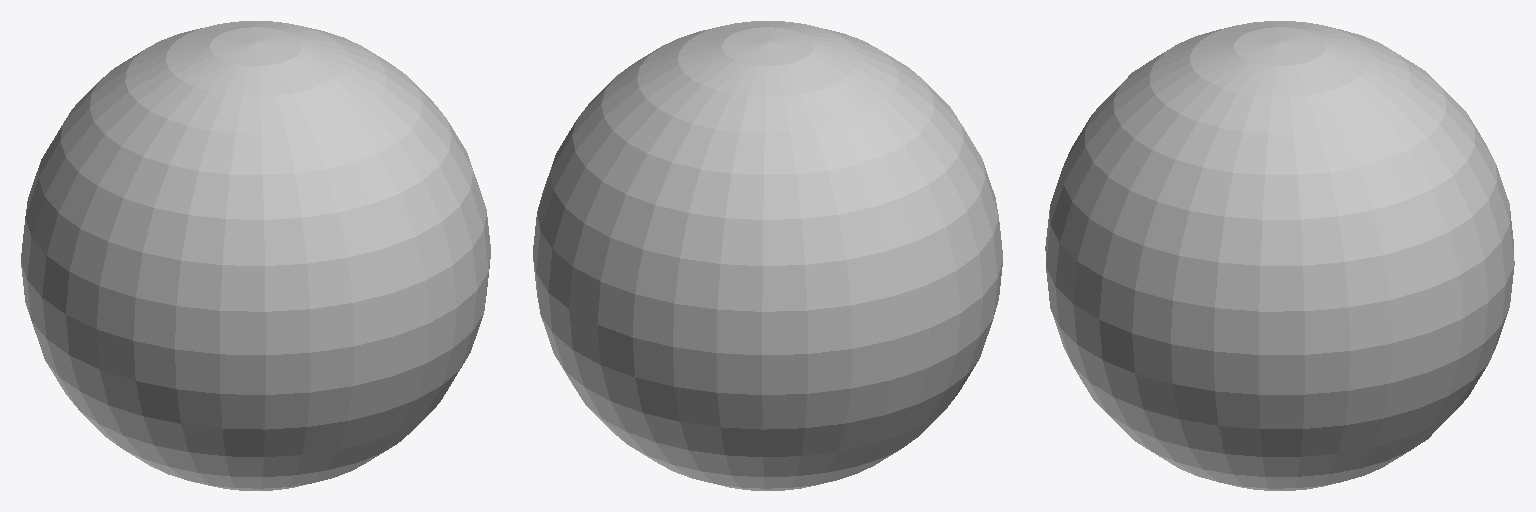
Rendered from venus.obj.
3 views of the same model, side by side, from view 1: azimuth 30°, elevation 25°; view 2: azimuth 150°, elevation 25°; view 3: azimuth 270°, elevation 25° (orthographic).
Visible parts, largest first — view 1: Venus_Sphere.001; view 2: Venus_Sphere.001; view 3: Venus_Sphere.001.
Part boxes in pixels (bbox=[...]): Venus_Sphere.001: bbox=[21, 21, 490, 490]; Venus_Sphere.001: bbox=[533, 21, 1002, 490]; Venus_Sphere.001: bbox=[1045, 21, 1514, 490].
Size of the model in its own units: 0.8466 by 0.85 by 0.8466.